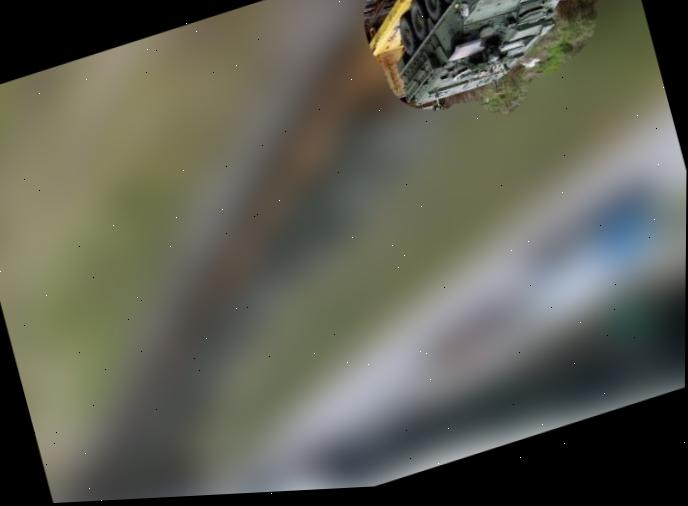armored_car: (370, 0, 592, 110)
